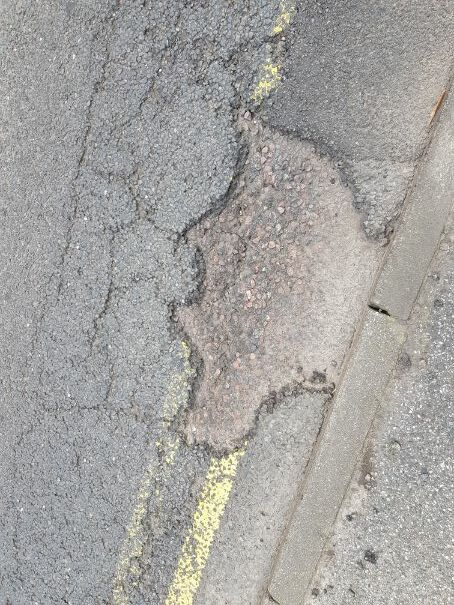pothole: (160, 94, 392, 468)
